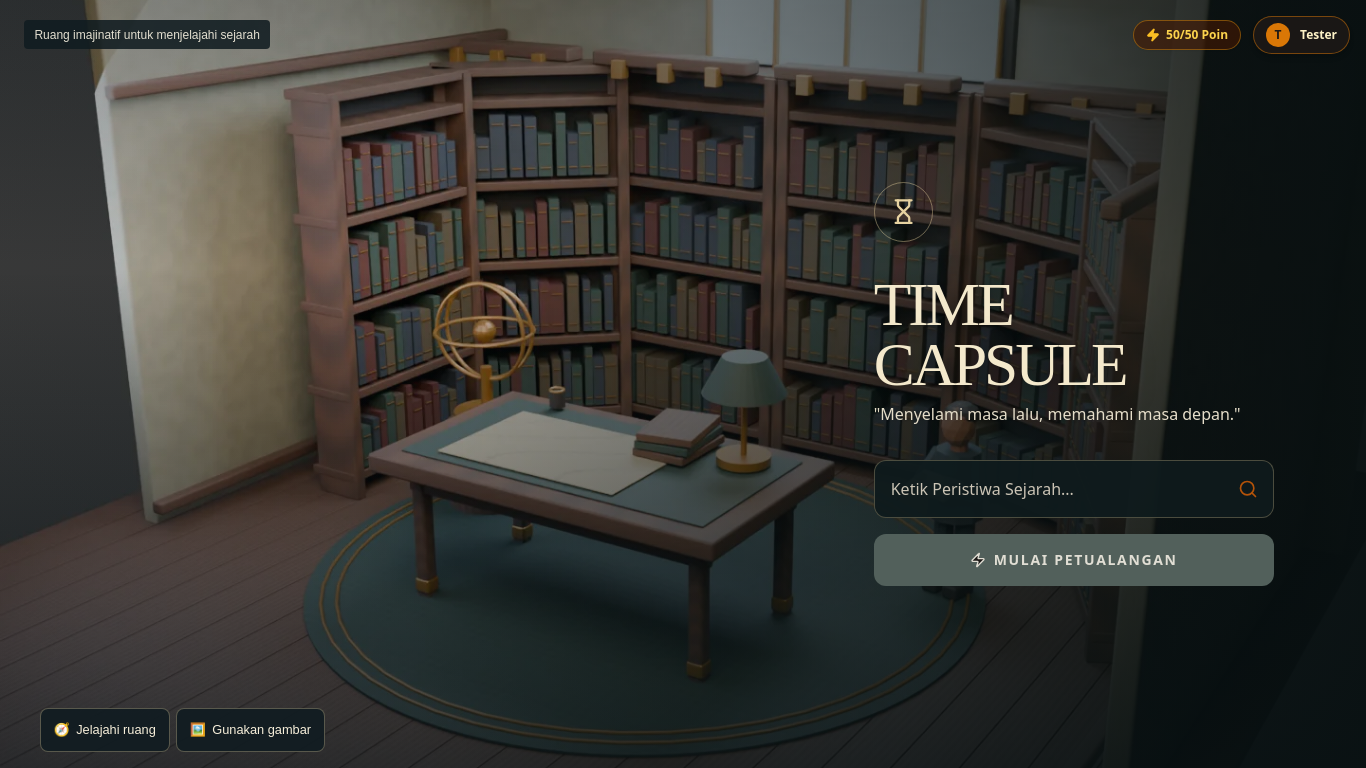
Test: App Component Integration › entering topic and starting game transitions to loading then gameplay
The image size is (1366, 768).
Type "Indonesia" into the field with placeholder "Ketik Peristiwa Sejarah..." at [1074, 489], box [874,460,1274,518]
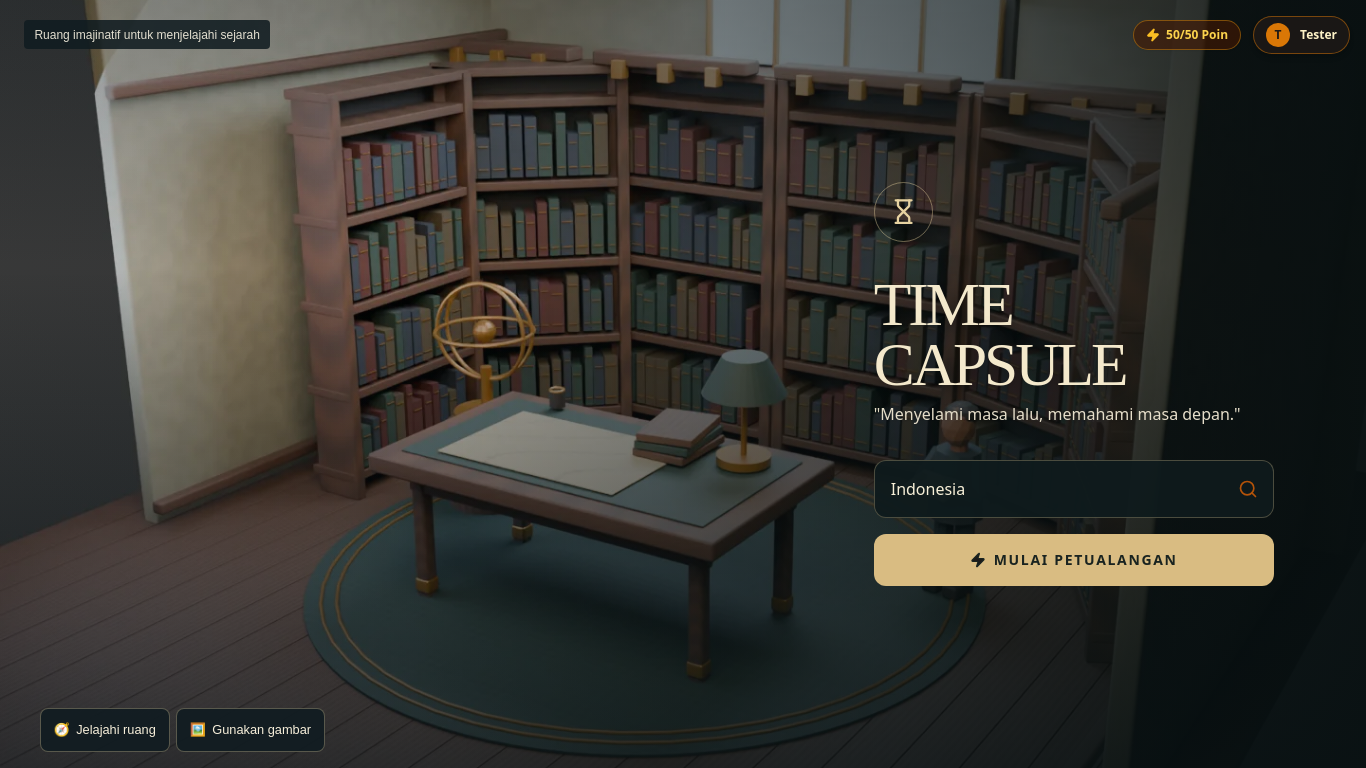
Click the button "Mulai Petualangan" at [1074, 560], box [874,534,1274,586]
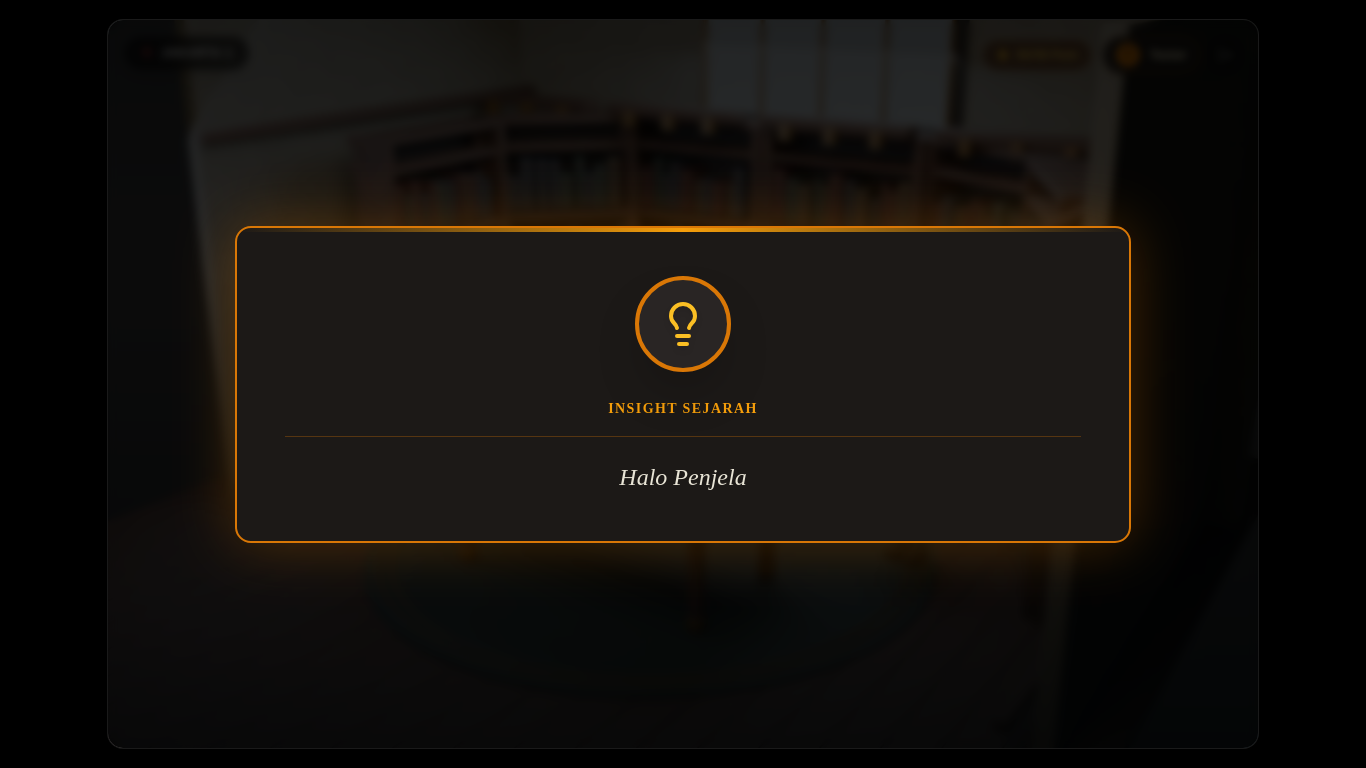
Result: the text "INSIGHT SEJARAH" is shown at [608,400,758,416]
